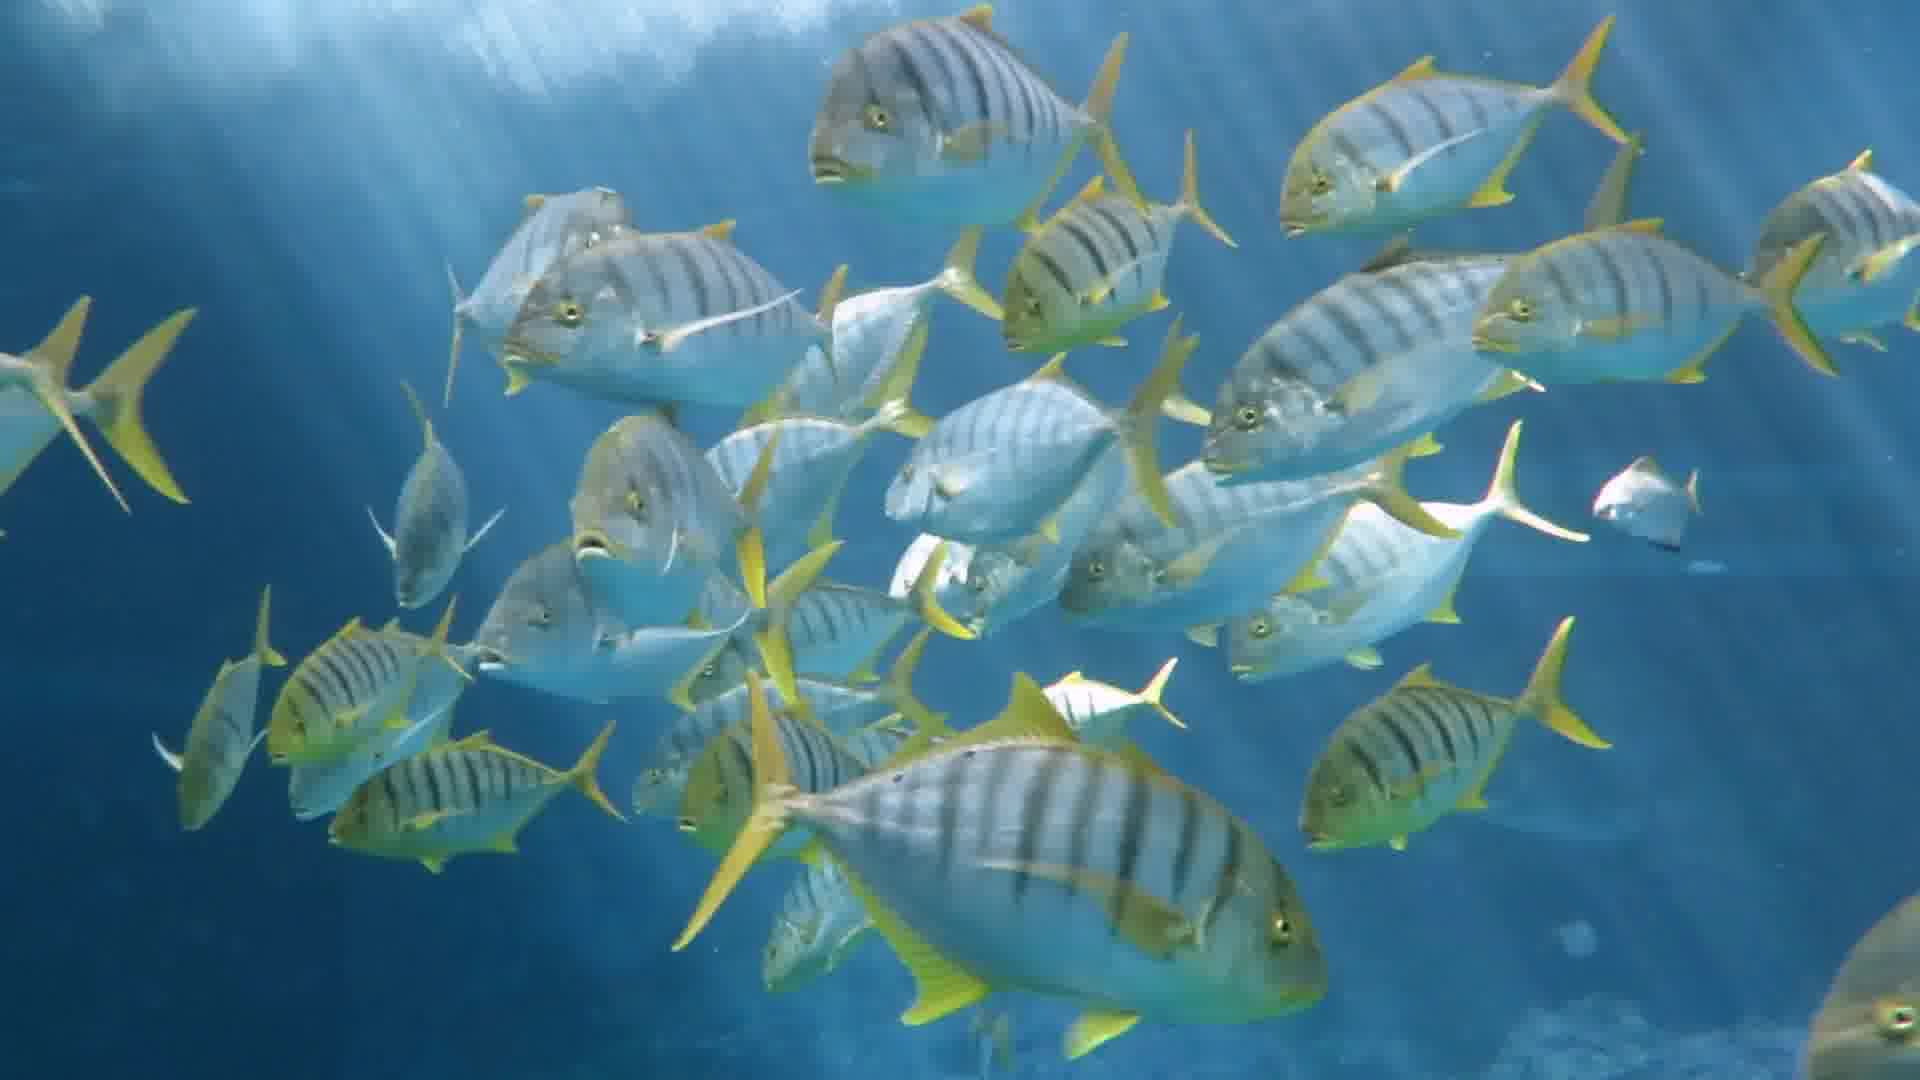Gnathanodon speciosus: (737, 719, 1337, 1029), (1215, 456, 1563, 699), (1280, 25, 1673, 233), (802, 13, 1131, 206), (483, 225, 853, 394), (1201, 255, 1470, 487), (1480, 235, 1854, 377), (291, 738, 603, 862), (878, 381, 1122, 538), (567, 418, 746, 622), (245, 625, 454, 785), (477, 543, 702, 686), (162, 564, 262, 873), (1030, 487, 1211, 624), (380, 398, 462, 607)
